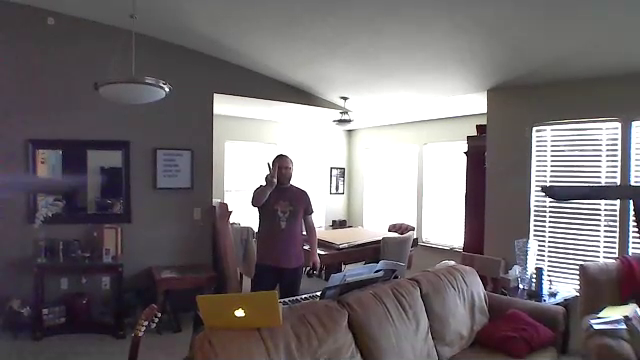peace: (262, 159, 282, 191)
